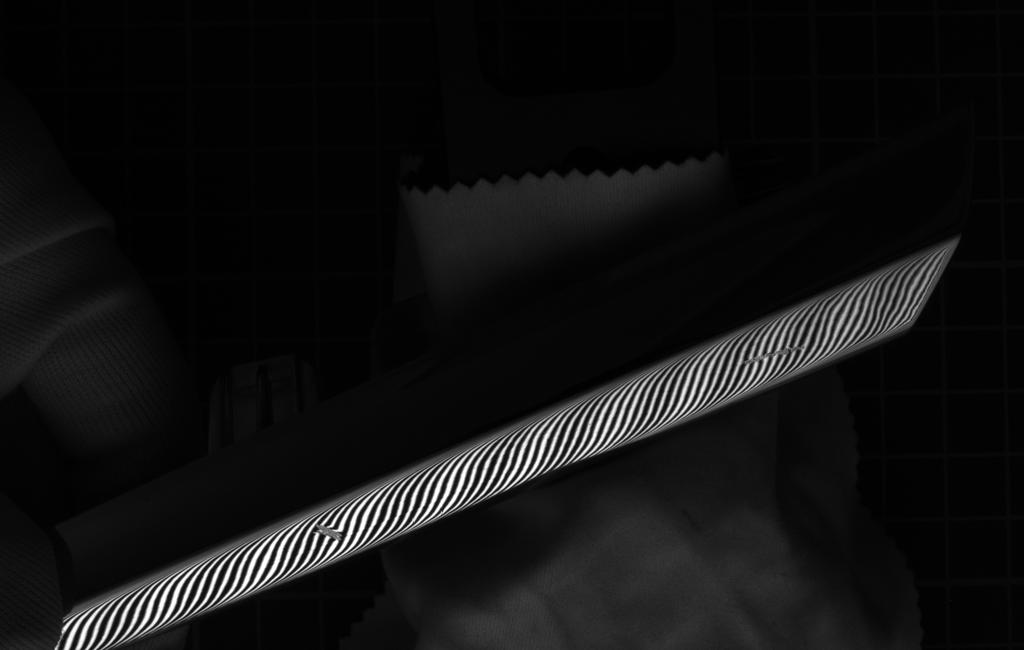Scratch: (730, 338, 824, 374), (305, 516, 354, 546)
